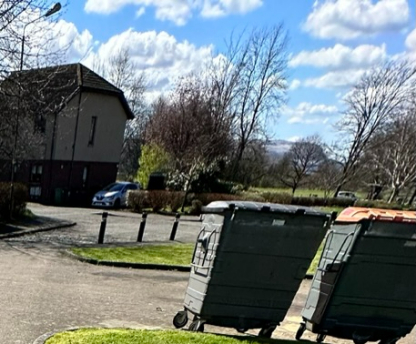car: (87, 176, 139, 210)
tree: (319, 55, 398, 196), (233, 17, 294, 165), (144, 94, 230, 194), (283, 137, 324, 195)
